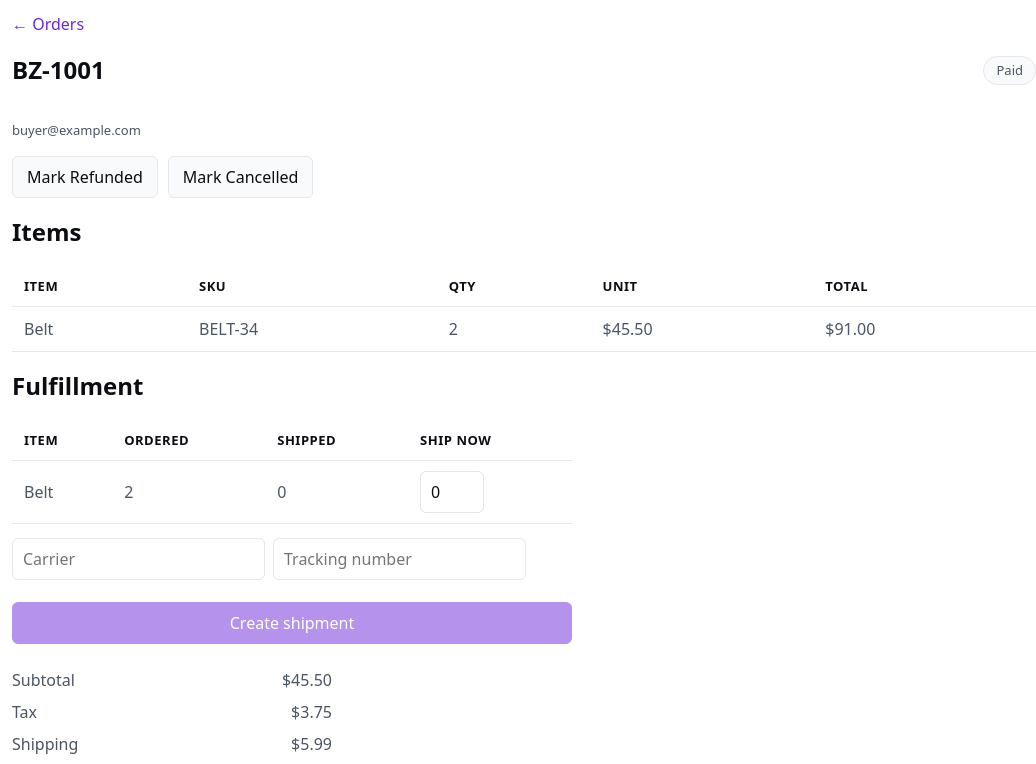
it: AdminOrderDetailPage › creates a partial shipment and derives the status
The width and height of the screenshot is (1036, 764).
Expected: the text with test id "order-status" reads "Paid", [996,60,1023,78]
Replace the text in the number field named "ship quantity for BELT-34" with "1": (452, 492) [420,471,484,513]
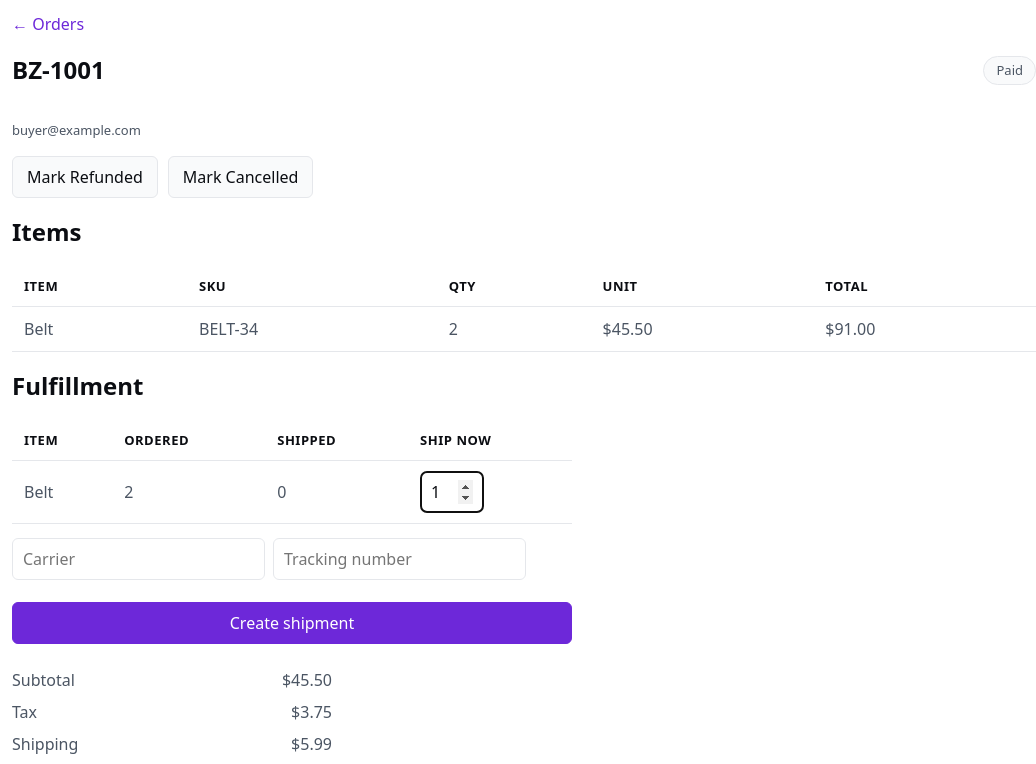
In the field labelled "Carrier": (138, 559) [12,538,265,580], type "UPS"
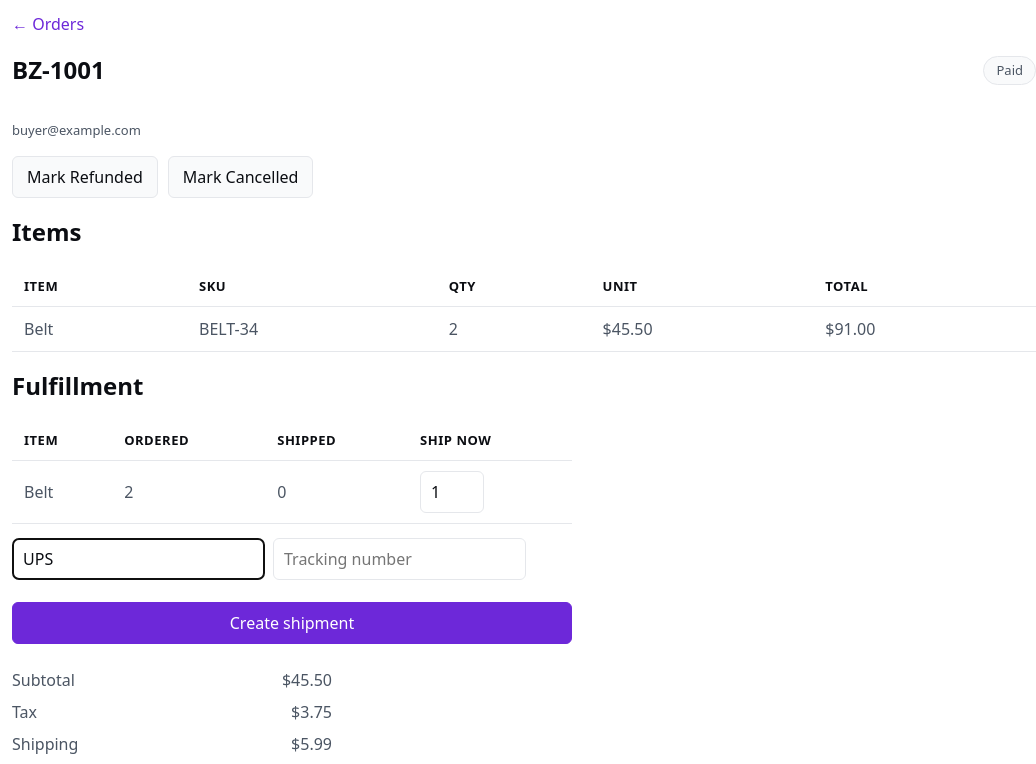
In the field labelled "Tracking number": (400, 559) [273,538,526,580], type "1Z-1"
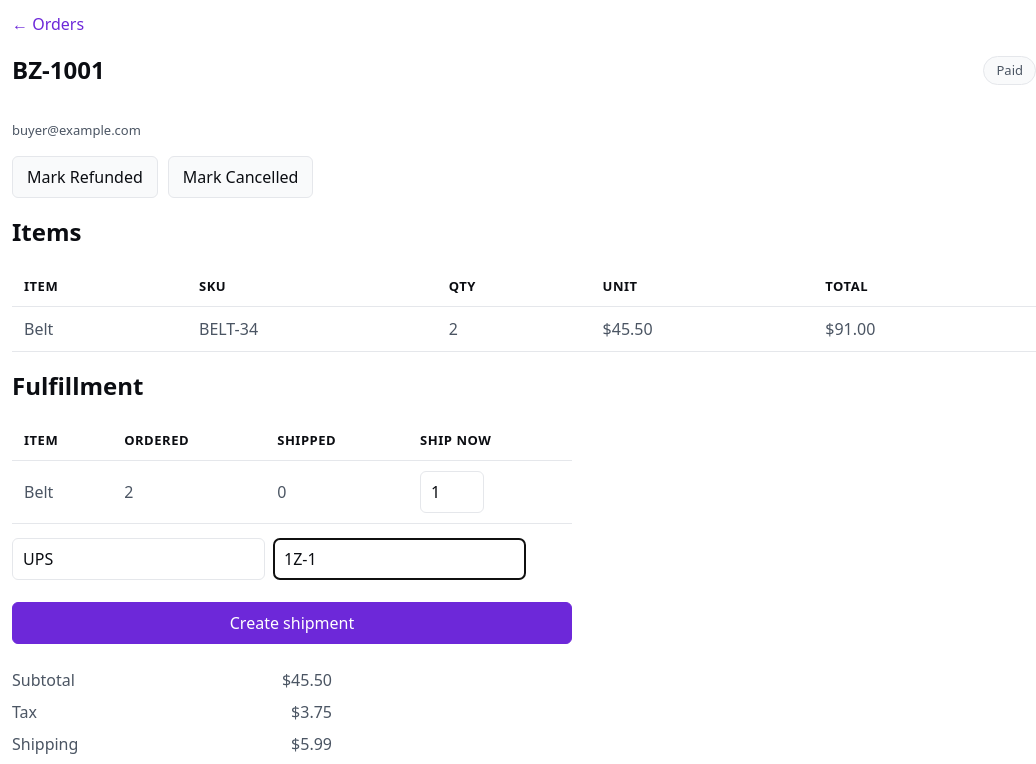
Click the button "Create shipment": (292, 623) [12,602,572,644]
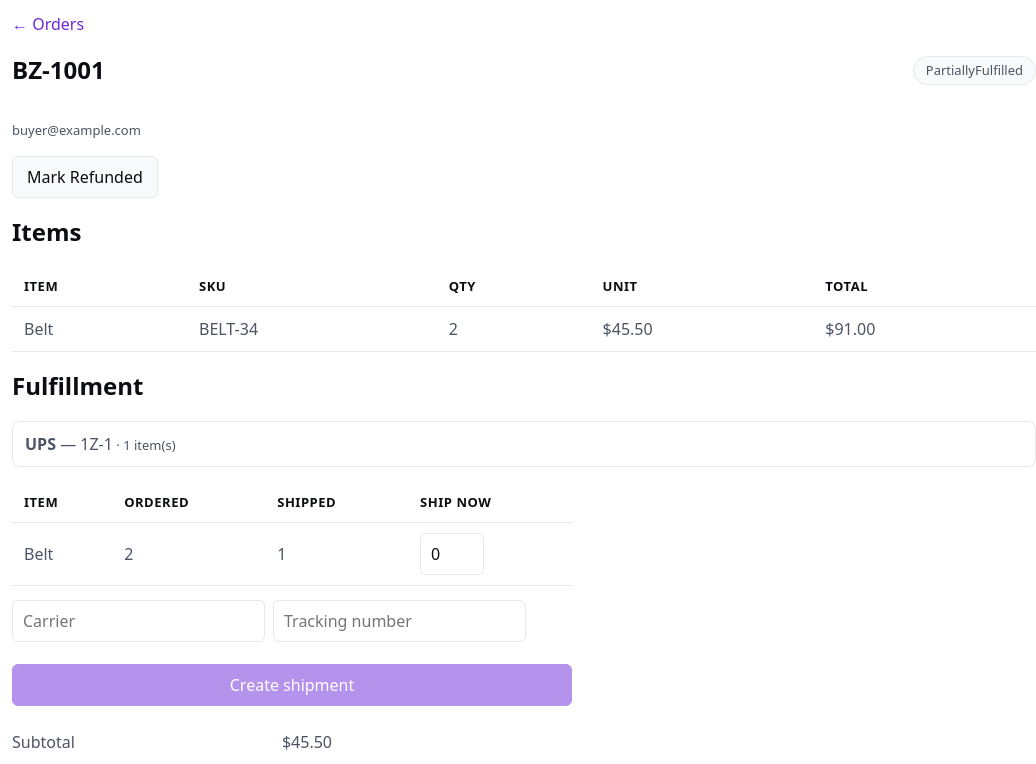
Now the text with test id "order-status" reads "PartiallyFulfilled", box [926,60,1023,78]
